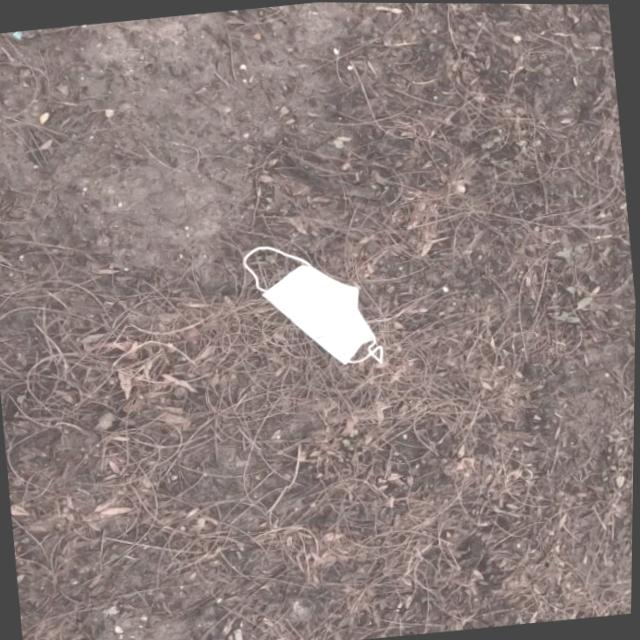Mask: (245, 230, 386, 376)
